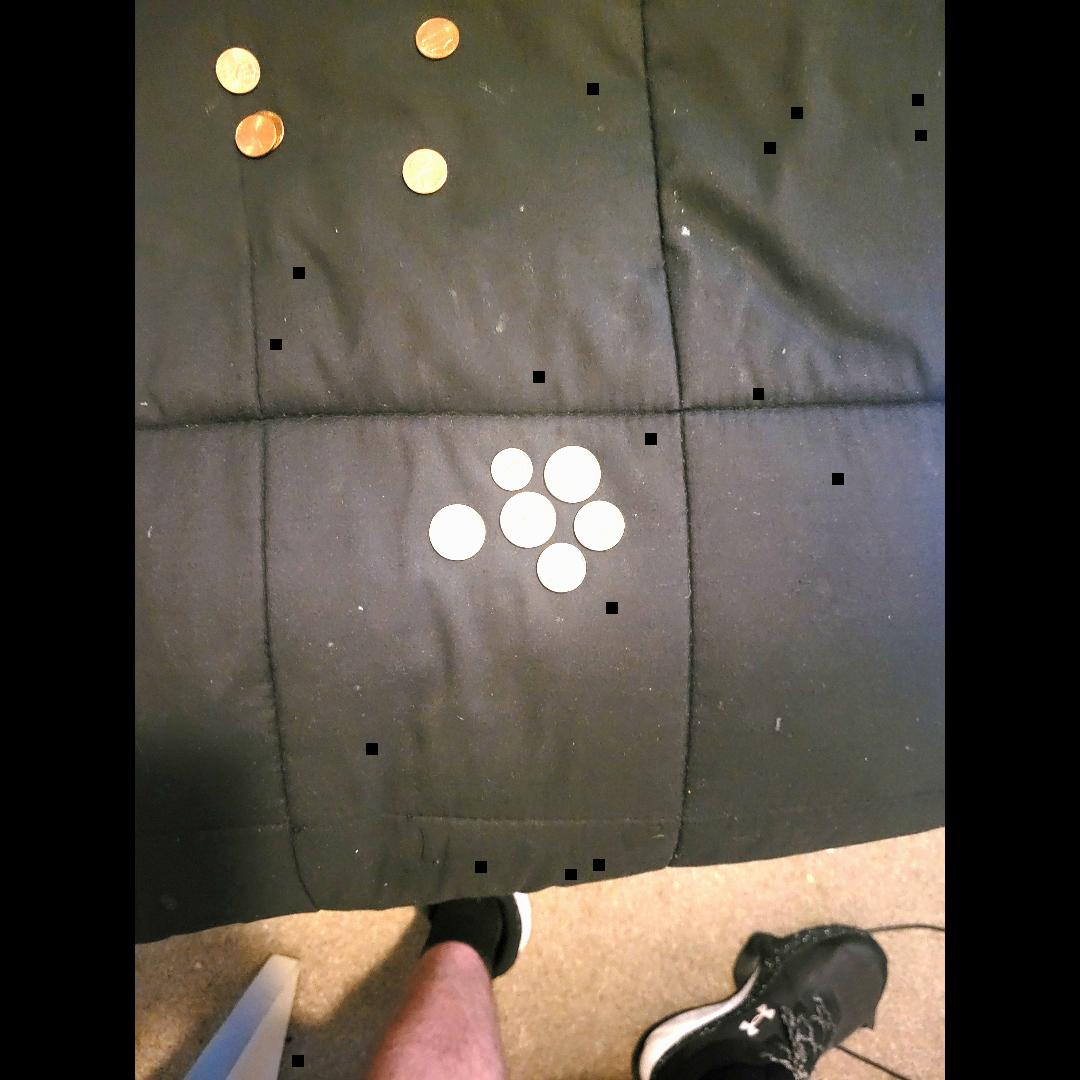Dime: (491, 448, 532, 490)
Nickel: (573, 501, 624, 551), (537, 542, 586, 592)
Penny: (812, 1046, 882, 1080), (403, 148, 448, 194), (216, 48, 259, 93), (416, 18, 459, 58), (236, 115, 276, 156)
Quarter: (429, 504, 486, 560), (500, 492, 555, 548), (545, 446, 600, 500)
